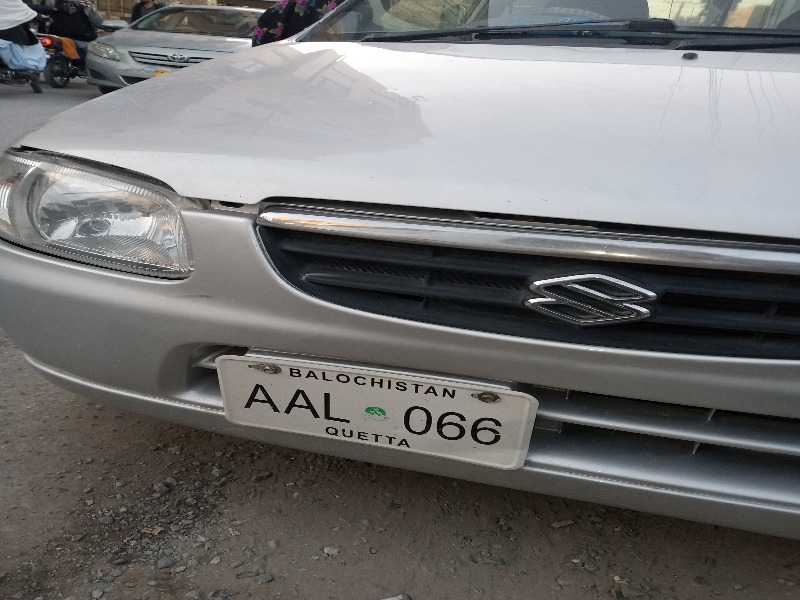License Plate: (210, 351, 534, 482)
